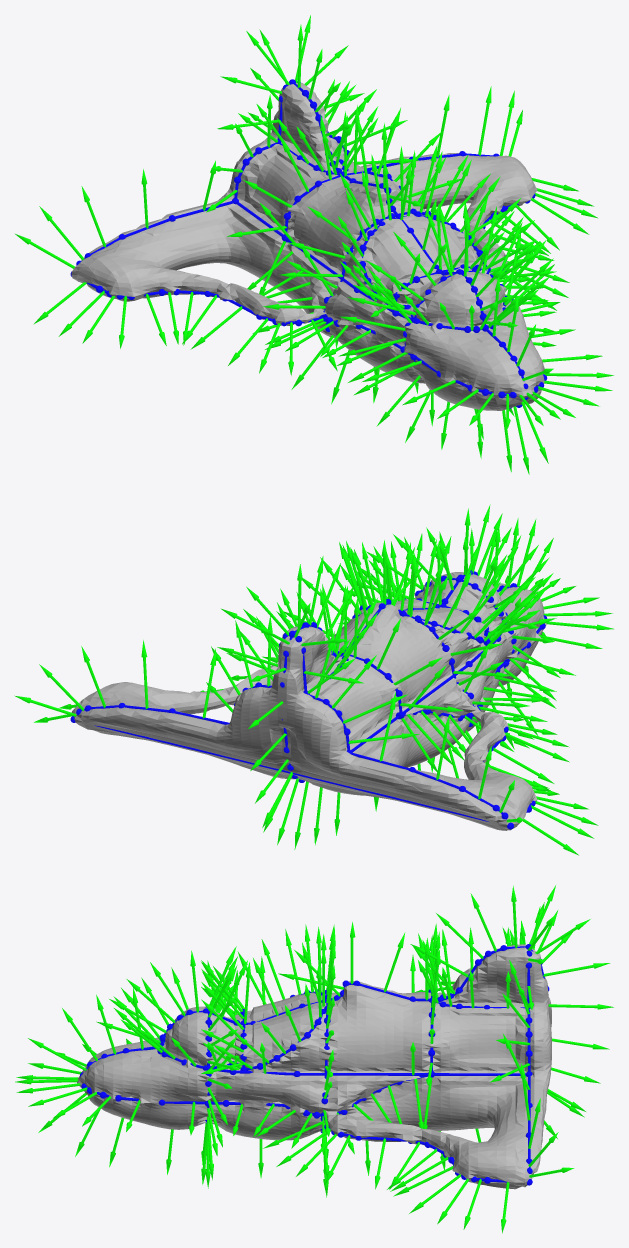
The model's file is t2f_fighter.gltf.
3 views of the same model, one above another, from view 1: azimuth 30°, elevation 25°; view 2: azimuth 150°, elevation 25°; view 3: azimuth 270°, elevation 25° (orthographic). The views are drawn at different scales.
Bounding box in the file's own units: 0.8704 × 0.4672 × 0.8645.
